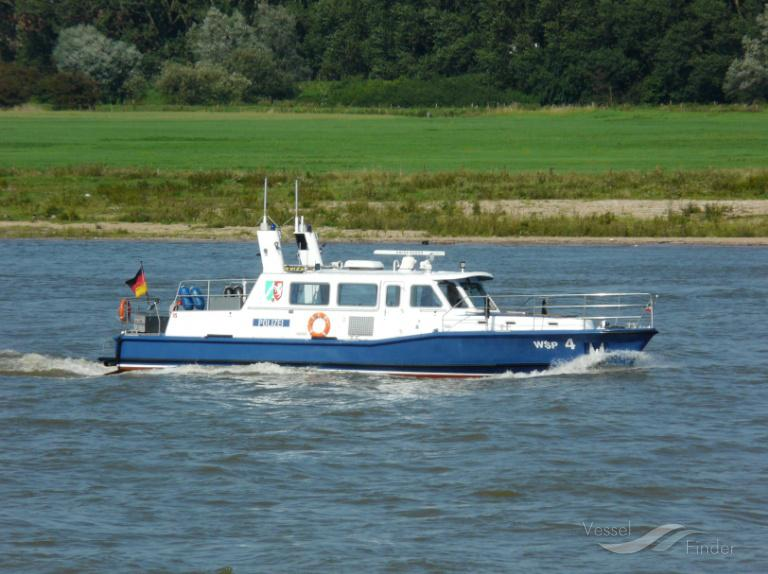OCR: (524, 335, 576, 355)
